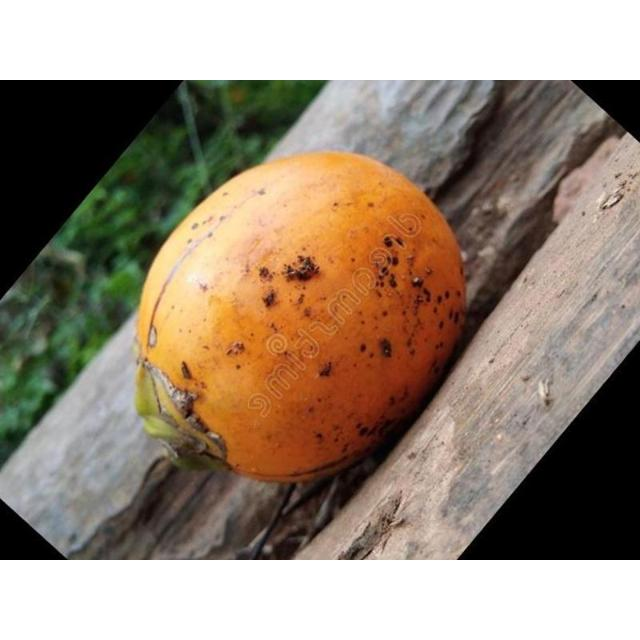good: (130, 150, 467, 484)
